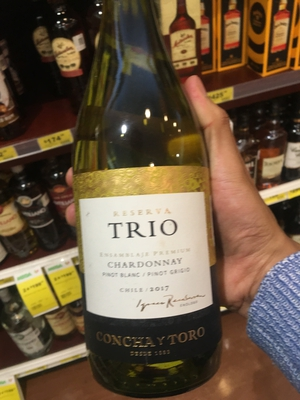trio chardonnay: (63, 20, 230, 380)
